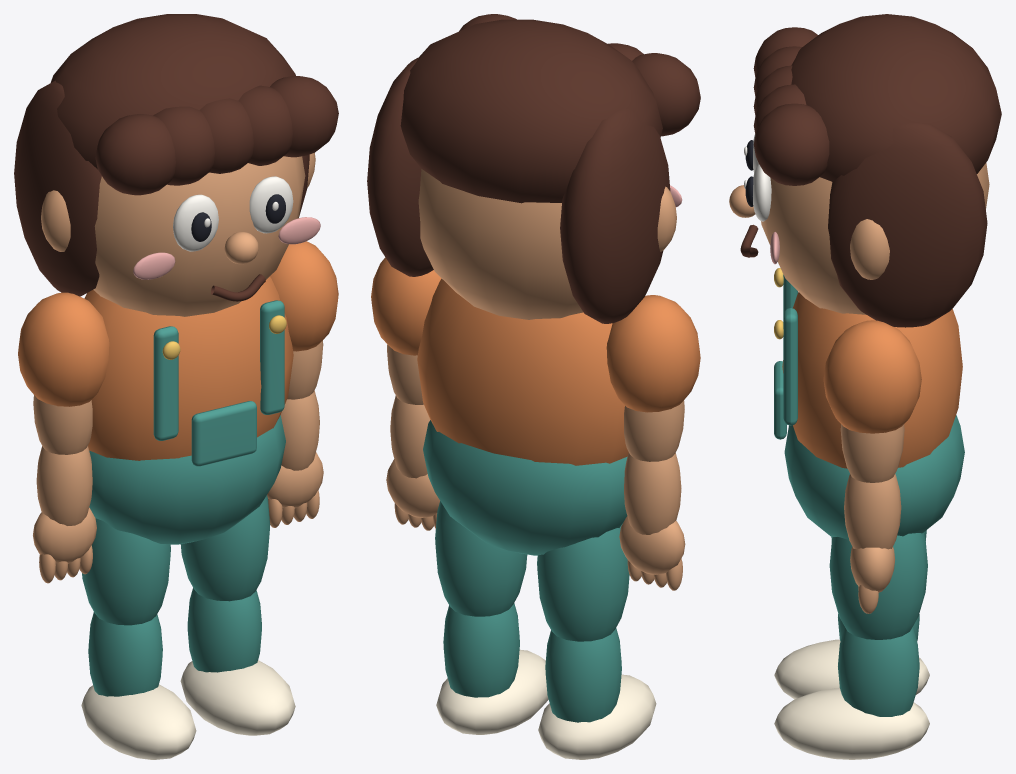
The model's file is word-no.glb.
3 views of the same model, side by side, from view 1: azimuth 30°, elevation 25°; view 2: azimuth 150°, elevation 25°; view 3: azimuth 270°, elevation 25° (orthographic). The views are drawn at different scales.
Visible parts, largest first — view 1: soft shirt, hair cap, clay head, overalls, bob hair, shirt sleeve, trouser leg, little shoe, little shoe.001, trouser leg.001, fringe, lower leg.001 (+22 smaller); view 2: hair cap, soft shirt, bob hair, overalls, clay head, shirt sleeve, trouser leg, bob hair.001, trouser leg.001, lower leg.001, lower leg, little shoe (+10 smaller); view 3: bob hair.001, hair cap, soft shirt, shirt sleeve.001, overalls, clay head, little shoe.001, trouser leg.001, lower leg.001, fringe.004, forearm.001, little shoe (+11 smaller).
Boxes of the visible parts, x1,y1,x2,y2 form: soft shirt: (84, 276, 293, 460); hair cap: (50, 14, 295, 169); clay head: (93, 156, 305, 316); overalls: (89, 415, 285, 544); bob hair: (14, 80, 101, 296); shirt sleeve: (18, 292, 109, 406); trouser leg: (82, 518, 170, 625); little shoe: (81, 684, 196, 759); little shoe.001: (180, 660, 295, 735); trouser leg.001: (180, 495, 270, 601); fringe: (95, 114, 175, 195); lower leg.001: (187, 588, 261, 672); hair cap: (400, 19, 662, 203); soft shirt: (417, 278, 628, 465); bob hair: (560, 109, 670, 323); overalls: (423, 420, 627, 555); clay head: (418, 169, 583, 319); shirt sleeve: (606, 295, 700, 412); trouser leg: (537, 523, 629, 641); bob hair.001: (367, 57, 433, 276); trouser leg.001: (435, 501, 527, 616); lower leg.001: (443, 603, 519, 697); lower leg: (545, 628, 621, 722); little shoe: (538, 674, 656, 759); bob hair.001: (828, 122, 987, 327); hair cap: (791, 14, 1001, 181); soft shirt: (782, 292, 962, 468); shirt sleeve.001: (823, 320, 921, 433); overalls: (784, 415, 964, 539); clay head: (758, 163, 989, 314); little shoe.001: (774, 688, 929, 759); trouser leg.001: (829, 533, 927, 639); lower leg.001: (838, 627, 919, 716); fringe.004: (753, 103, 829, 185); forearm.001: (844, 474, 901, 549); little shoe: (774, 639, 929, 699).
Bounding box in the file's own units: 0.87 × 1.87 × 0.665.
